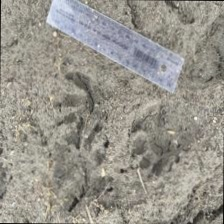raccoon: (19, 34, 207, 161)
